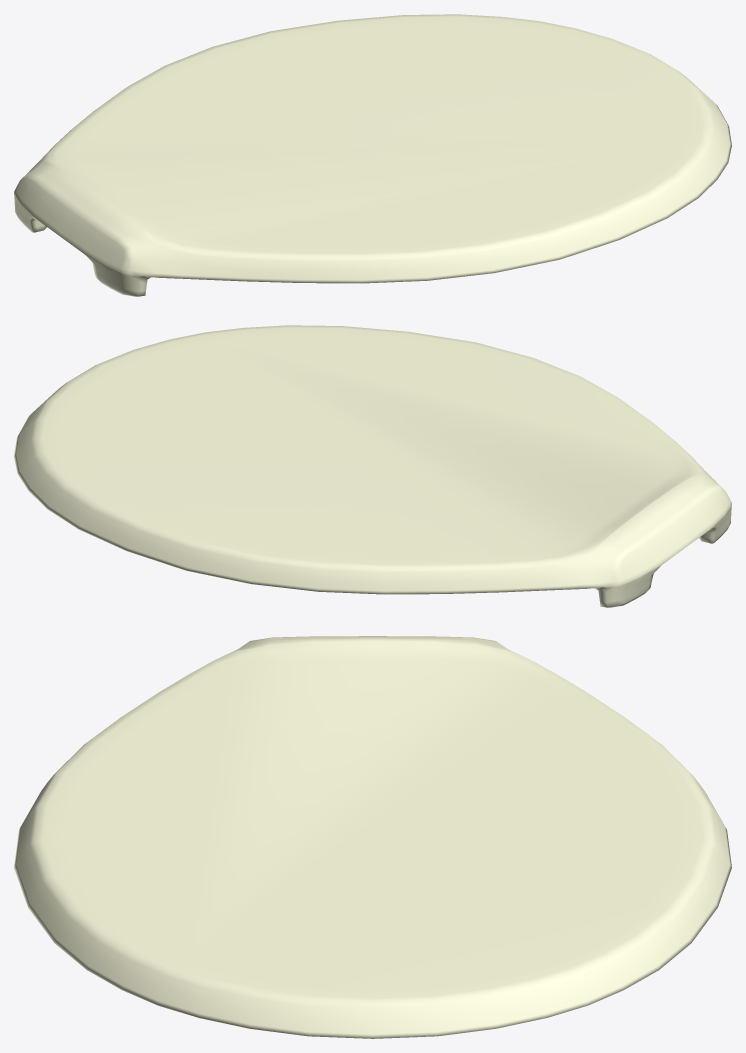
The model's file is p2_inodoro_tapa.fbx.
3 renders of one model, top to bottom at view 1: azimuth 30°, elevation 25°; view 2: azimuth 150°, elevation 25°; view 3: azimuth 270°, elevation 25°, orthographic. The views are drawn at different scales.
Parts seen in each view (by area): view 1: Toilet.004; view 2: Toilet.004; view 3: Toilet.004.
Boxes of the visible parts, bbox=[...] form: Toilet.004: bbox=[14, 14, 731, 296]; Toilet.004: bbox=[14, 325, 731, 607]; Toilet.004: bbox=[14, 636, 731, 1038].
Size of the model in its own units: 72.36 by 5.94 by 57.93.
Materials: 1 (1 with a texture image).
